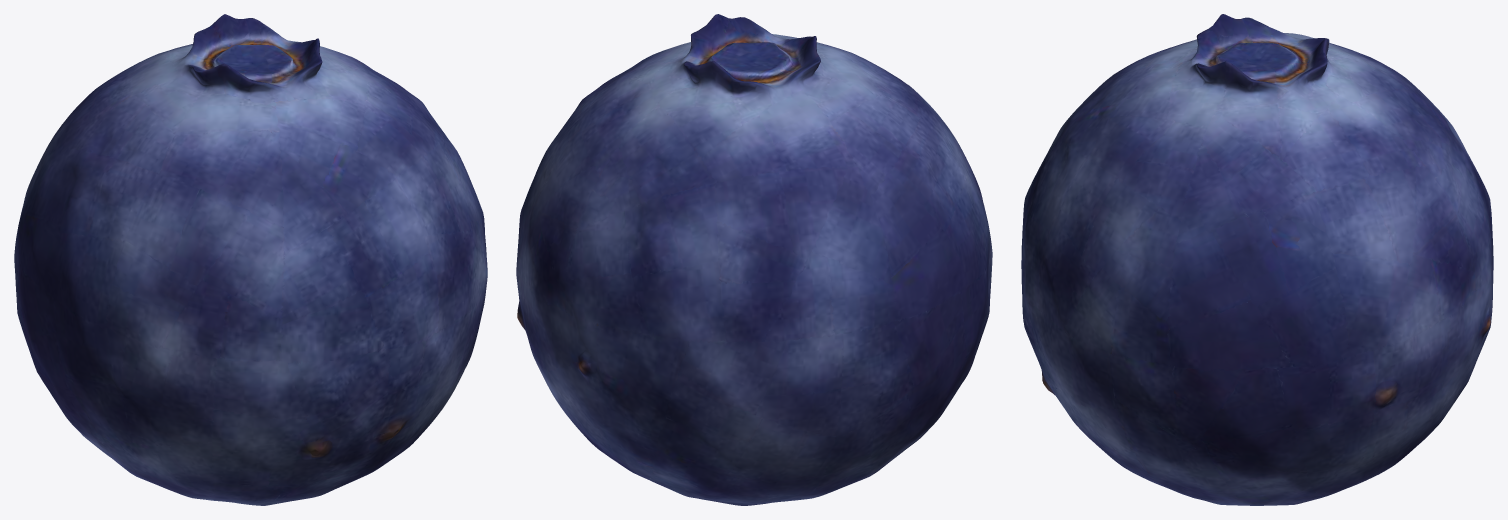
The picture shows the model from 3 angles, left to right: view 1: azimuth 30°, elevation 25°; view 2: azimuth 150°, elevation 25°; view 3: azimuth 270°, elevation 25°; orthographic projection.
Bounding box in the file's own units: 1.83 × 1.9 × 1.83.
Materials: 1 (1 with a texture image).
